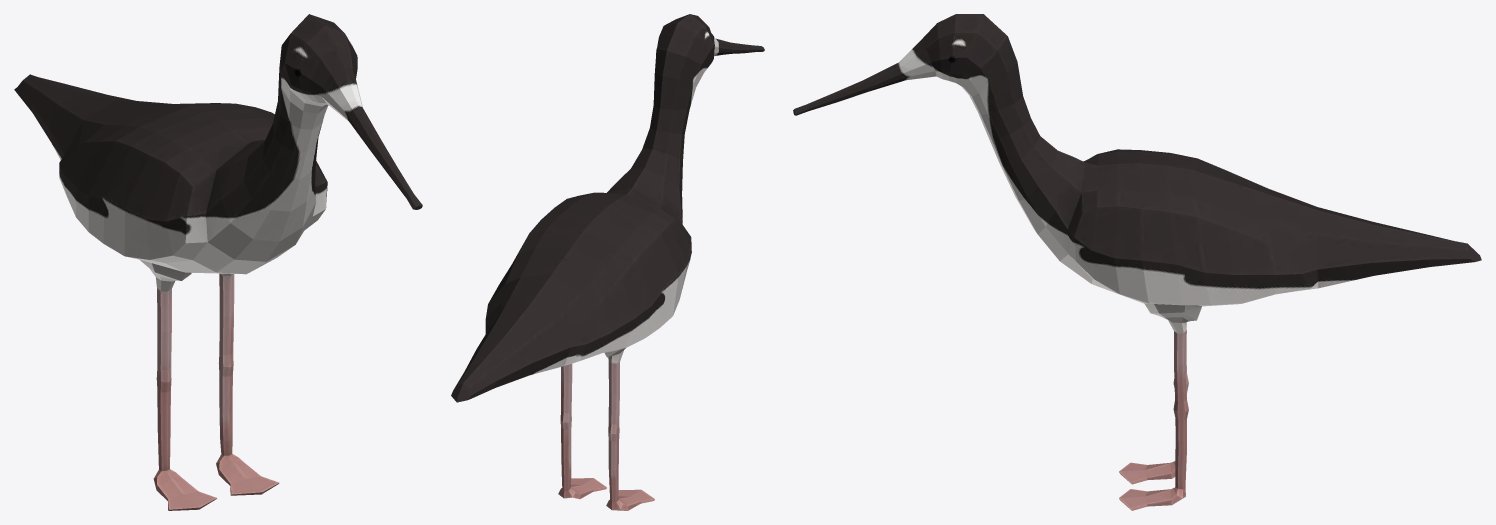
Rendered from aV5YI_5OOva.glb.
3 renders of one model, left to right at view 1: azimuth 30°, elevation 25°; view 2: azimuth 150°, elevation 25°; view 3: azimuth 270°, elevation 25°, orthographic. The views are drawn at different scales.
Parts seen in each view (by area): view 1: BlackNeckedStilt_mesh; view 2: BlackNeckedStilt_mesh; view 3: BlackNeckedStilt_mesh.
Part boxes in pixels (left/top/right/bottom): BlackNeckedStilt_mesh: left=14, top=14, right=422, bottom=510; BlackNeckedStilt_mesh: left=451, top=14, right=764, bottom=510; BlackNeckedStilt_mesh: left=793, top=14, right=1481, bottom=510.
Bounding box in the file's own units: 0.3581 × 1 × 1.32.
Materials: 1 (1 with a texture image).
